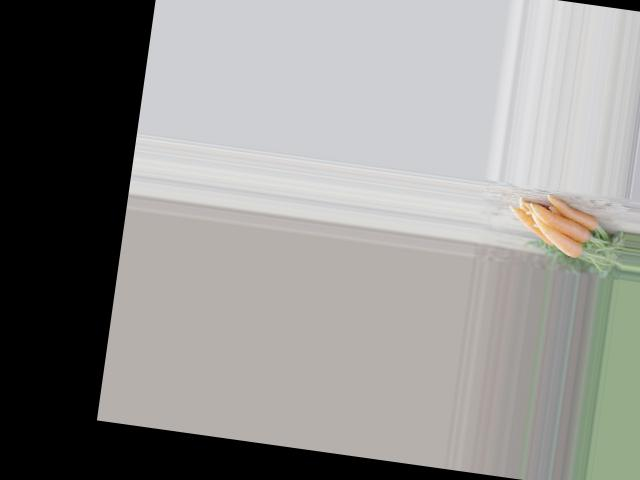carrot: (536, 193, 602, 232)
